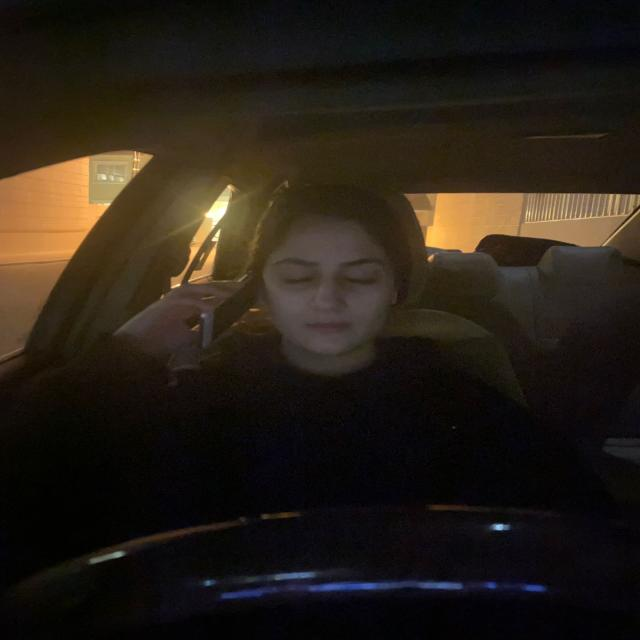phone: (198, 270, 261, 352)
